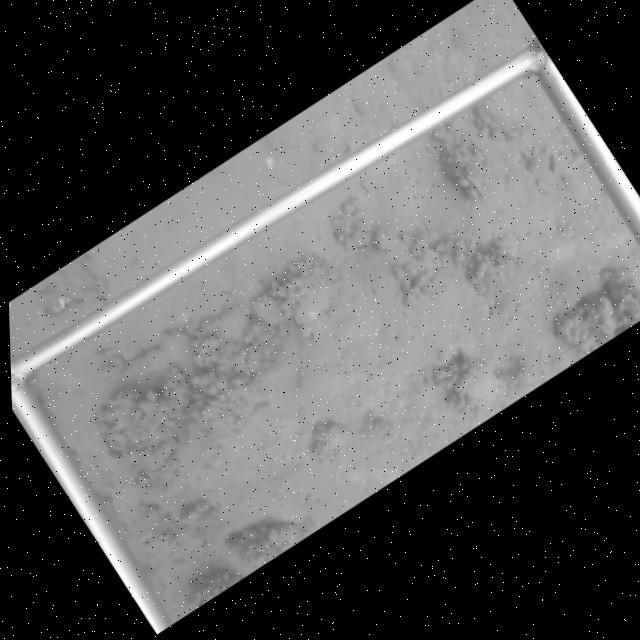Oyster-Closed: (141, 435, 178, 478)
Oyster-Indeterminate: (474, 78, 541, 138), (291, 263, 345, 325)
Oyster-Open: (98, 432, 128, 461)
